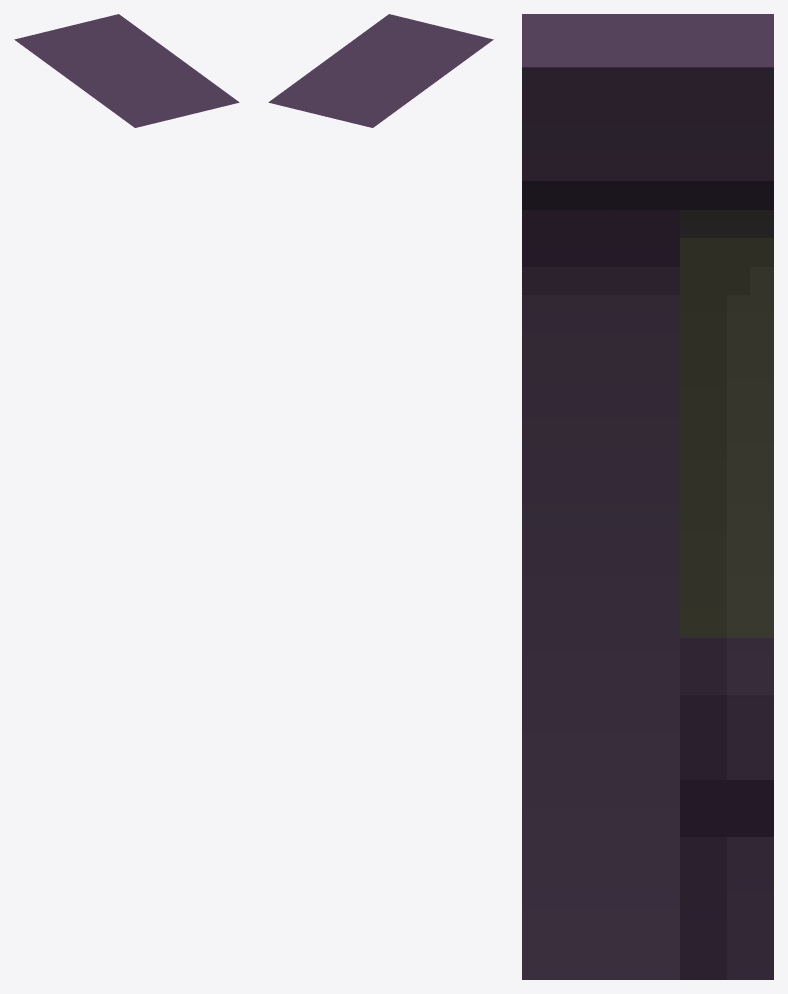
3 renders of one model, left to right at view 1: azimuth 30°, elevation 25°; view 2: azimuth 150°, elevation 25°; view 3: azimuth 270°, elevation 25°, orthographic. The views are drawn at different scales.
Size of the model in its own units: 0.5 by 4 by 1.
2 materials, 2 textured.
